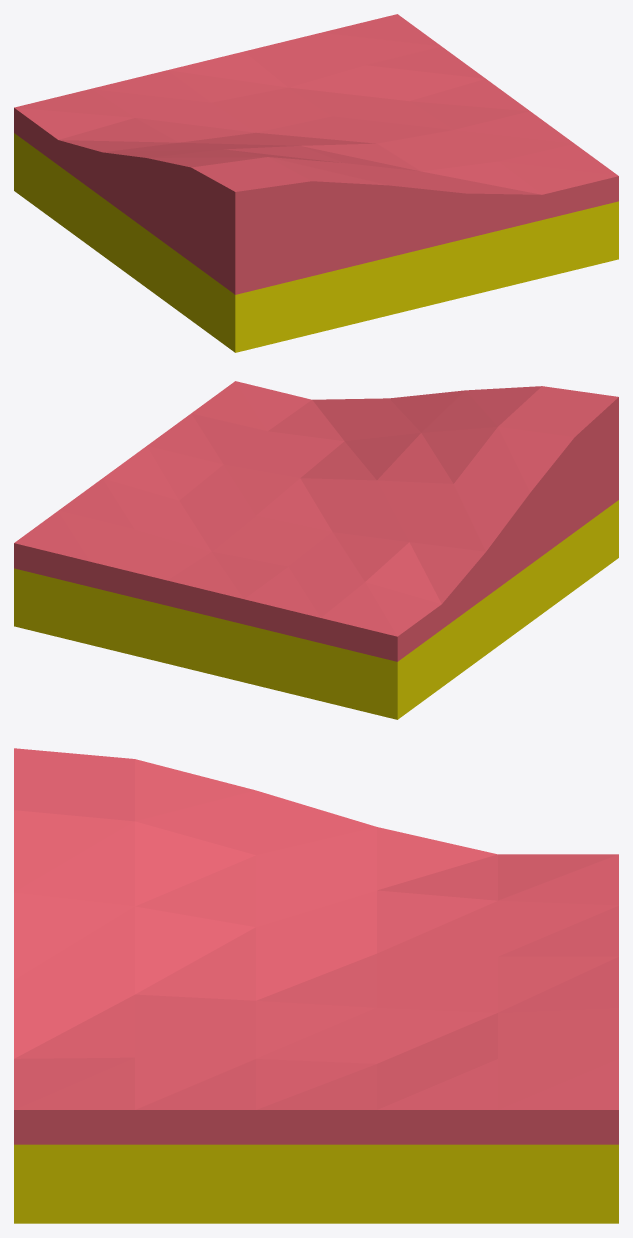
Rendered from ground-waves-hill.fbx.
3 views of the same model, one above another, from view 1: azimuth 30°, elevation 25°; view 2: azimuth 150°, elevation 25°; view 3: azimuth 270°, elevation 25° (orthographic). The views are drawn at different scales.
Parts seen in each view (by area): view 1: ground-waves-hill; view 2: ground-waves-hill; view 3: ground-waves-hill.
Part boxes in pixels (bbox=[...]): ground-waves-hill: bbox=[14, 14, 618, 352]; ground-waves-hill: bbox=[14, 381, 618, 719]; ground-waves-hill: bbox=[14, 748, 618, 1223].
Size of the model in its own units: 30 by 12.03 by 30.
